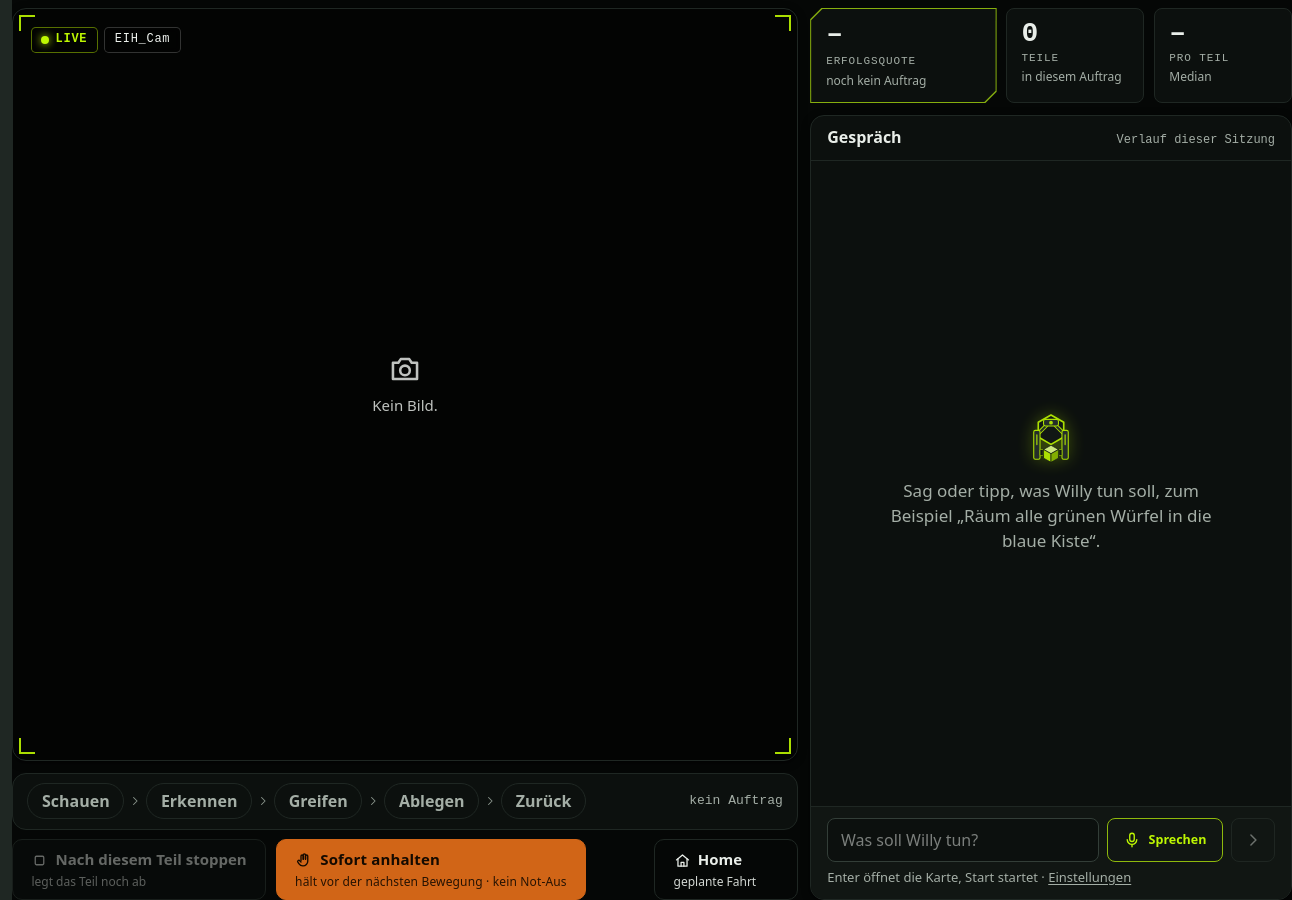
the card of a sort › marks "bitte prüfen" on a further rule where the reader did not find its words, and says its note with it
(page scrolled)
Type "Grüne Teile in die gelbe Kiste, rote in die blaue" into the field named "Befehl an Willy" at [963, 840], box top-left (827, 818), bottom-right (1099, 862)
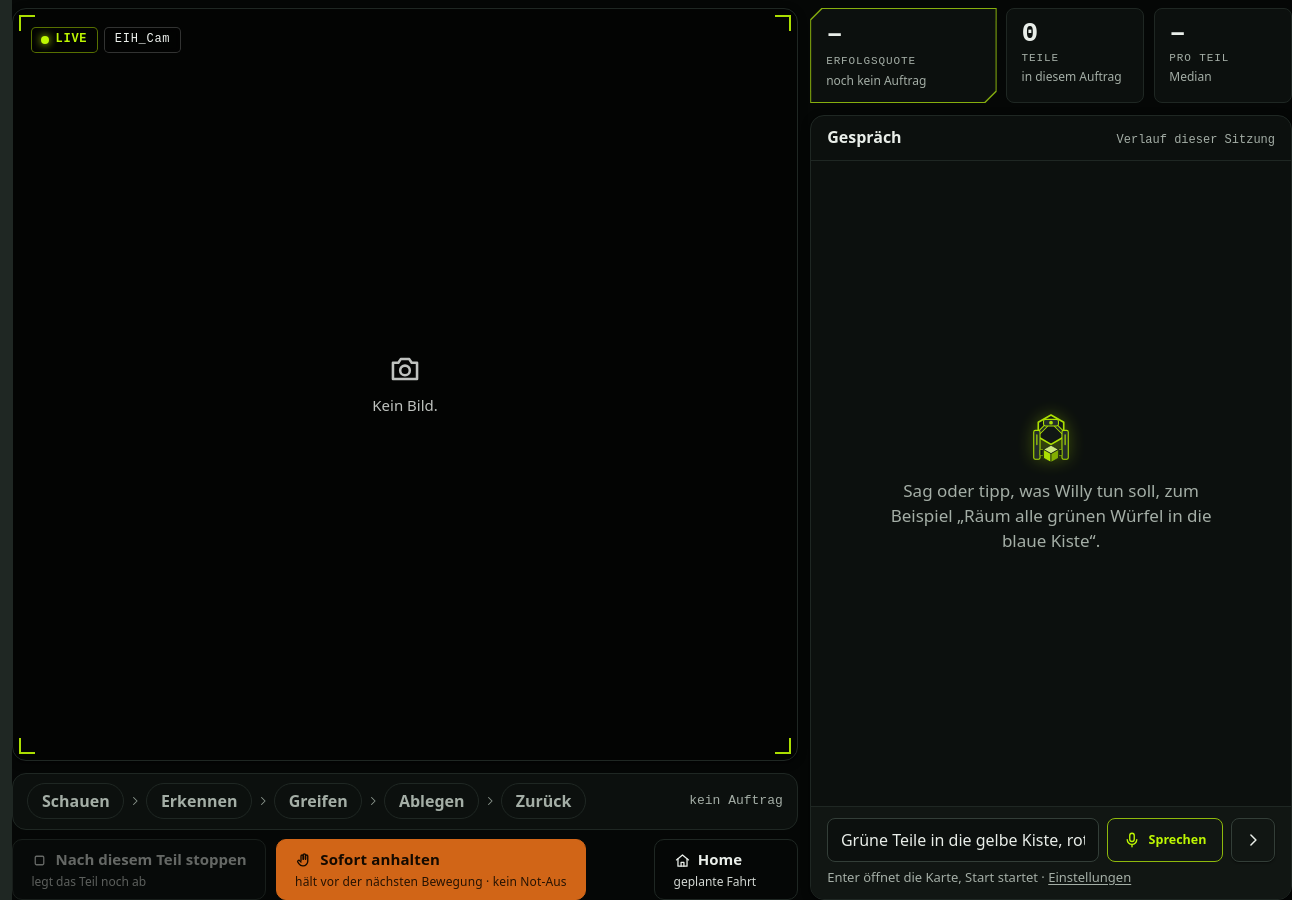
Press Enter in the field named "Befehl an Willy", box top-left (827, 818), bottom-right (1099, 862)
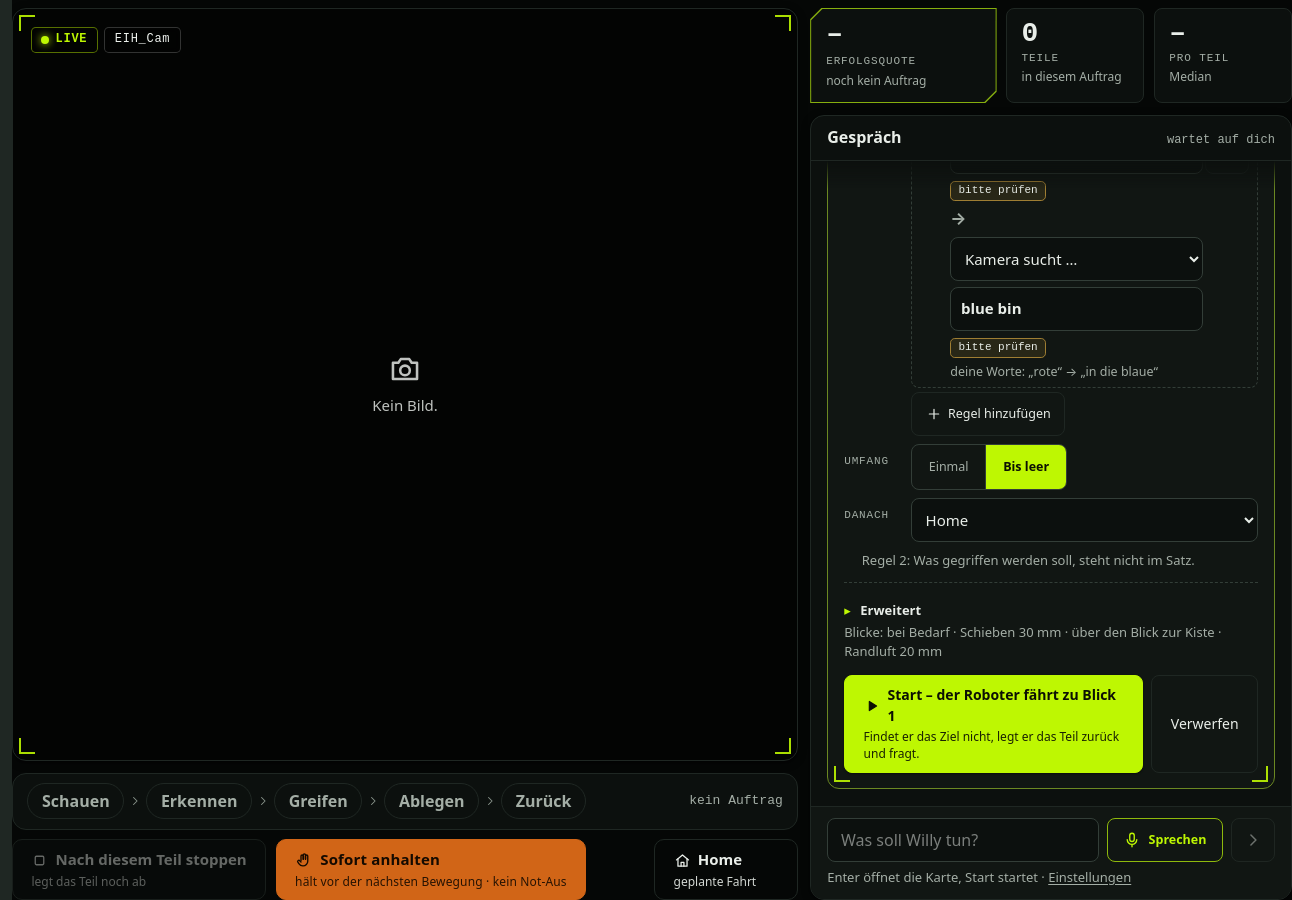
Result: the text "bitte prüfen" is shown 2 times at top-left (950, 180), bottom-right (1046, 201); top-left (950, 338), bottom-right (1046, 358)
Result: the list item "Regel 2: Was gegriffen werden soll, steht nicht im Satz." is shown at top-left (862, 551), bottom-right (1195, 569)
